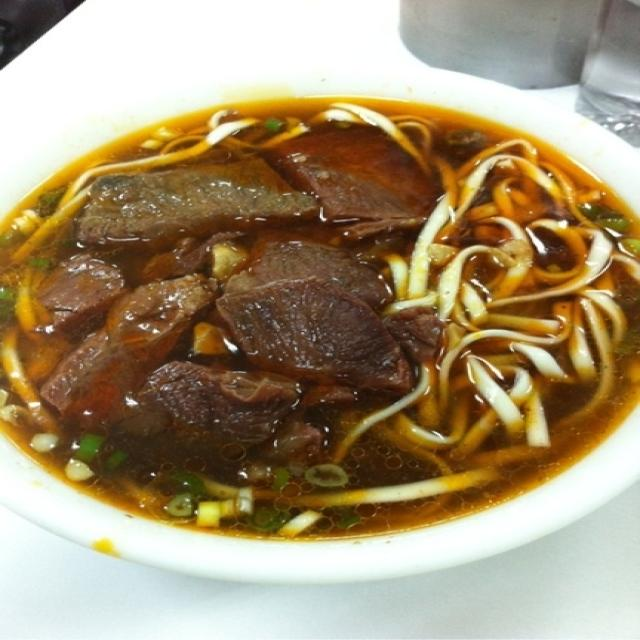面条主食: (18, 69, 618, 581)
